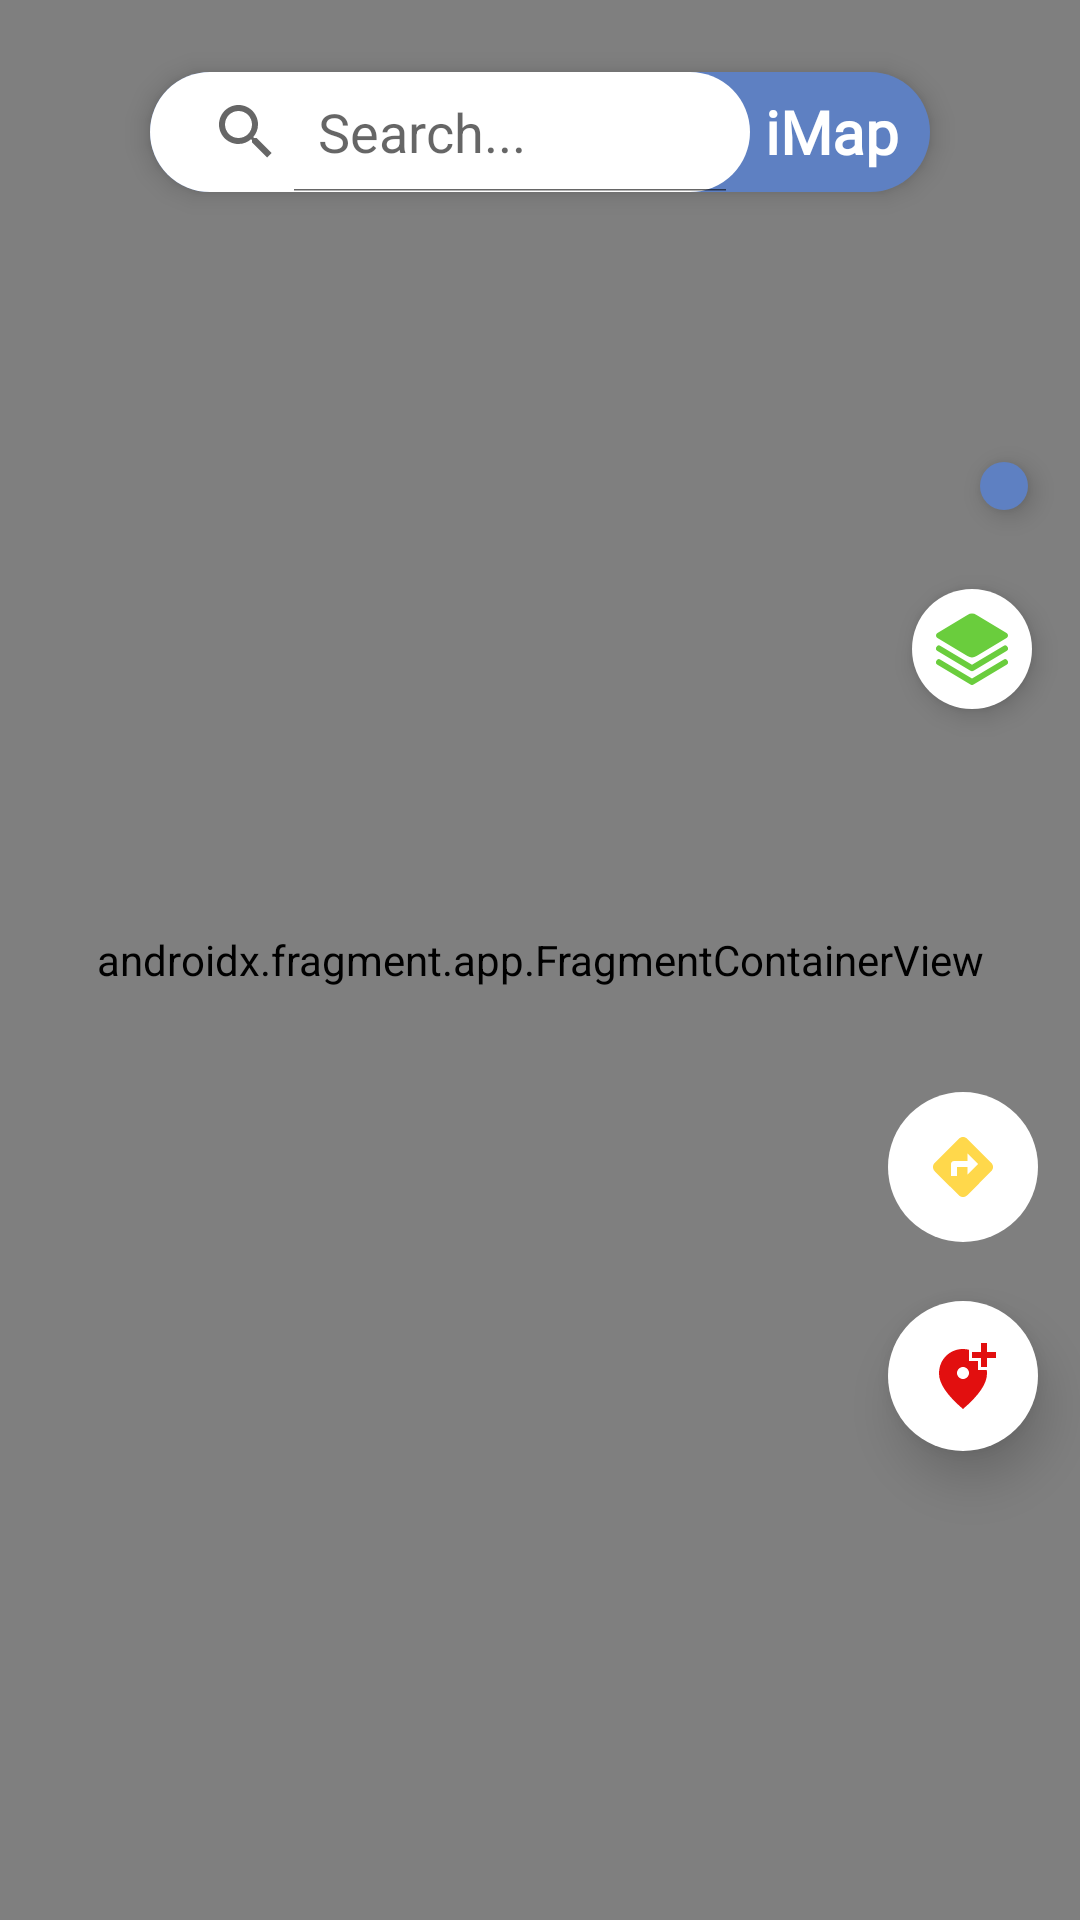

Icon click points for this 1080*1920 phone screenshot, format point (x, y):
add location: point (963, 1376)
directions: point (963, 1167)
layers: point (972, 649)
